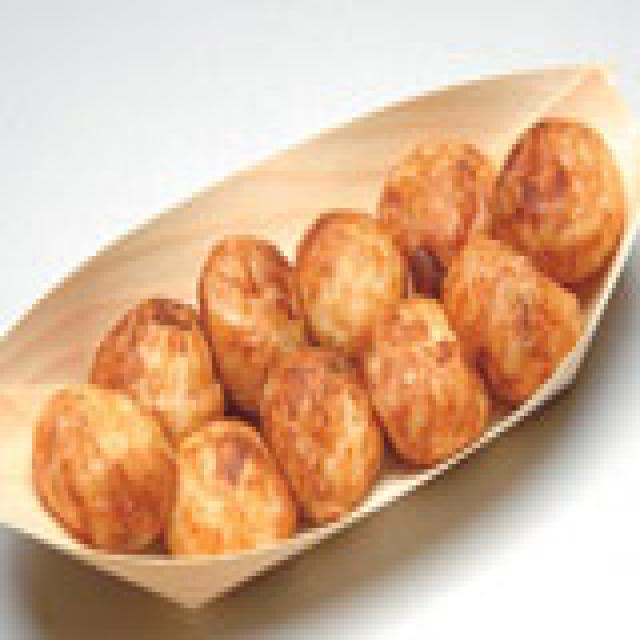炸货点心: (24, 102, 640, 566)
